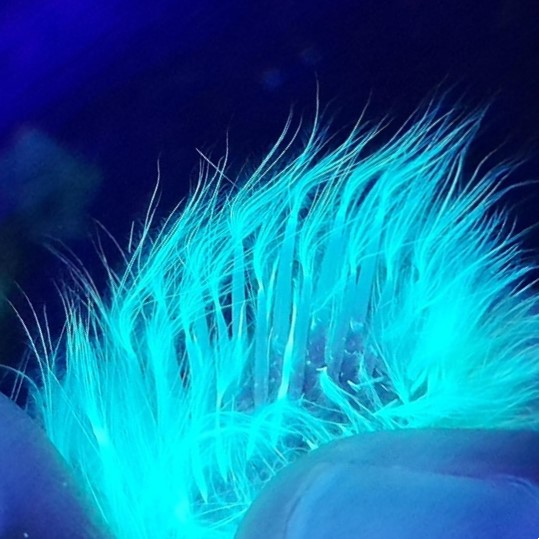female: (143, 188, 436, 469)
